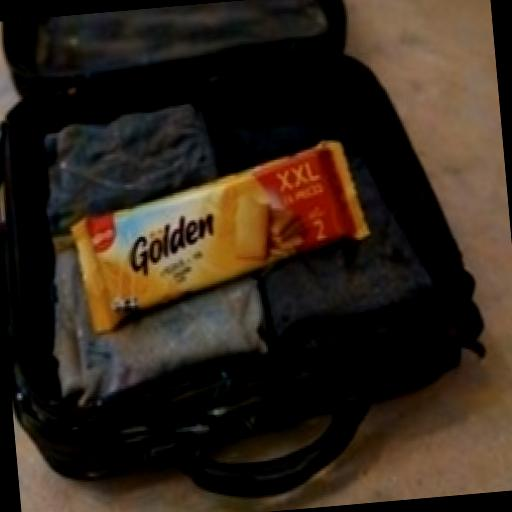golden: (19, 105, 410, 389)
